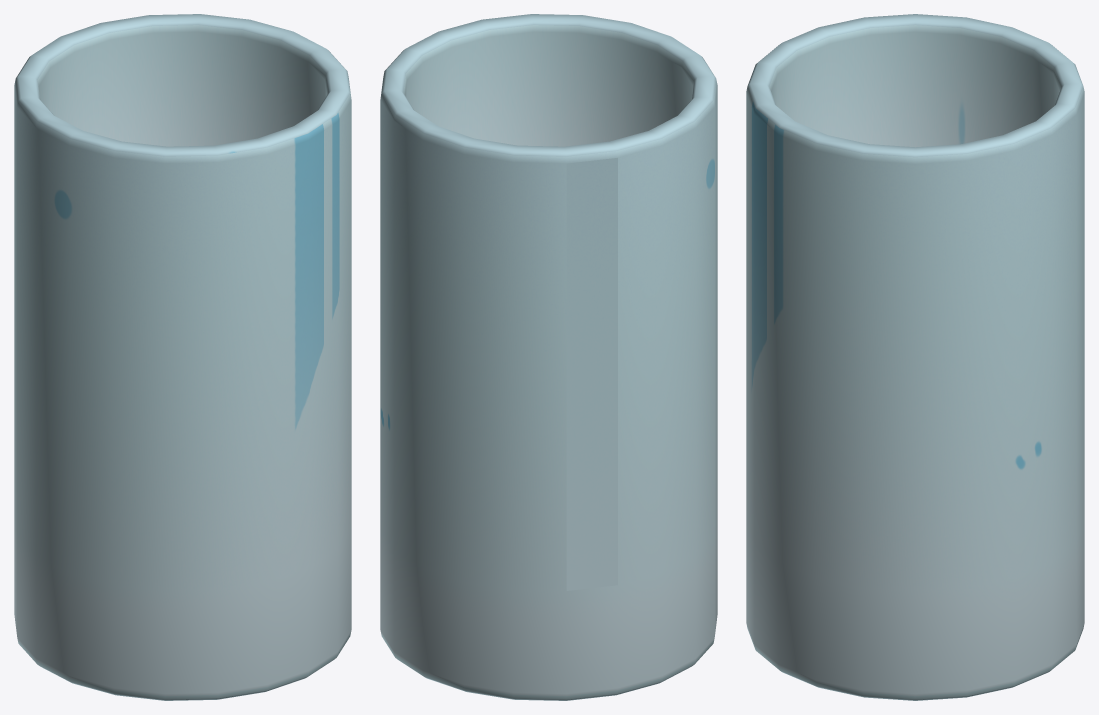
File: Tall_Glass2.fbx
3 renders of one model, left to right at view 1: azimuth 30°, elevation 25°; view 2: azimuth 150°, elevation 25°; view 3: azimuth 270°, elevation 25°, orthographic.
Visible parts, largest first — view 1: Cylinder.002; view 2: Cylinder.002; view 3: Cylinder.002.
Part boxes in pixels (x1,y1,x2,y2): Cylinder.002: (14,14,351,700); Cylinder.002: (380,14,717,700); Cylinder.002: (746,14,1084,700).
Size of the model in its own units: 40 by 71.36 by 40.
